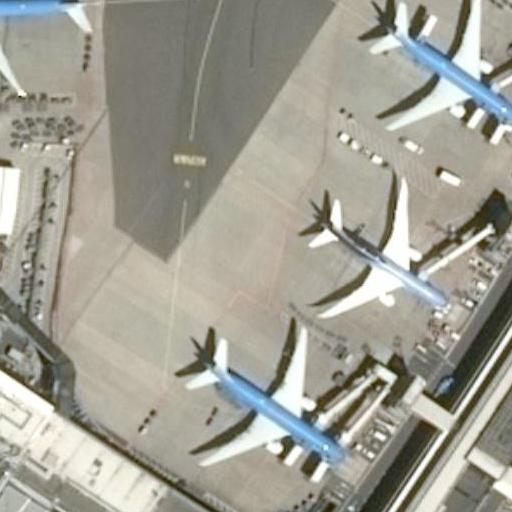Aircraft: (179, 324, 349, 470), (296, 173, 451, 315), (364, 0, 512, 142), (0, 0, 102, 93)
